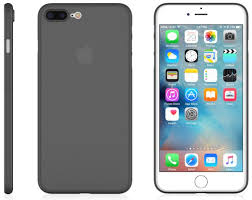iphone: (152, 1, 251, 200)
iphone8: (153, 1, 252, 200)
